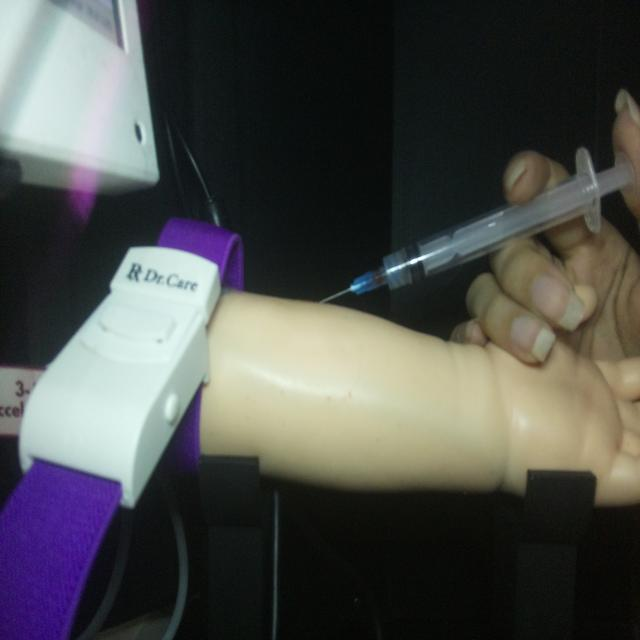16 degrees: (318, 144, 635, 306)
